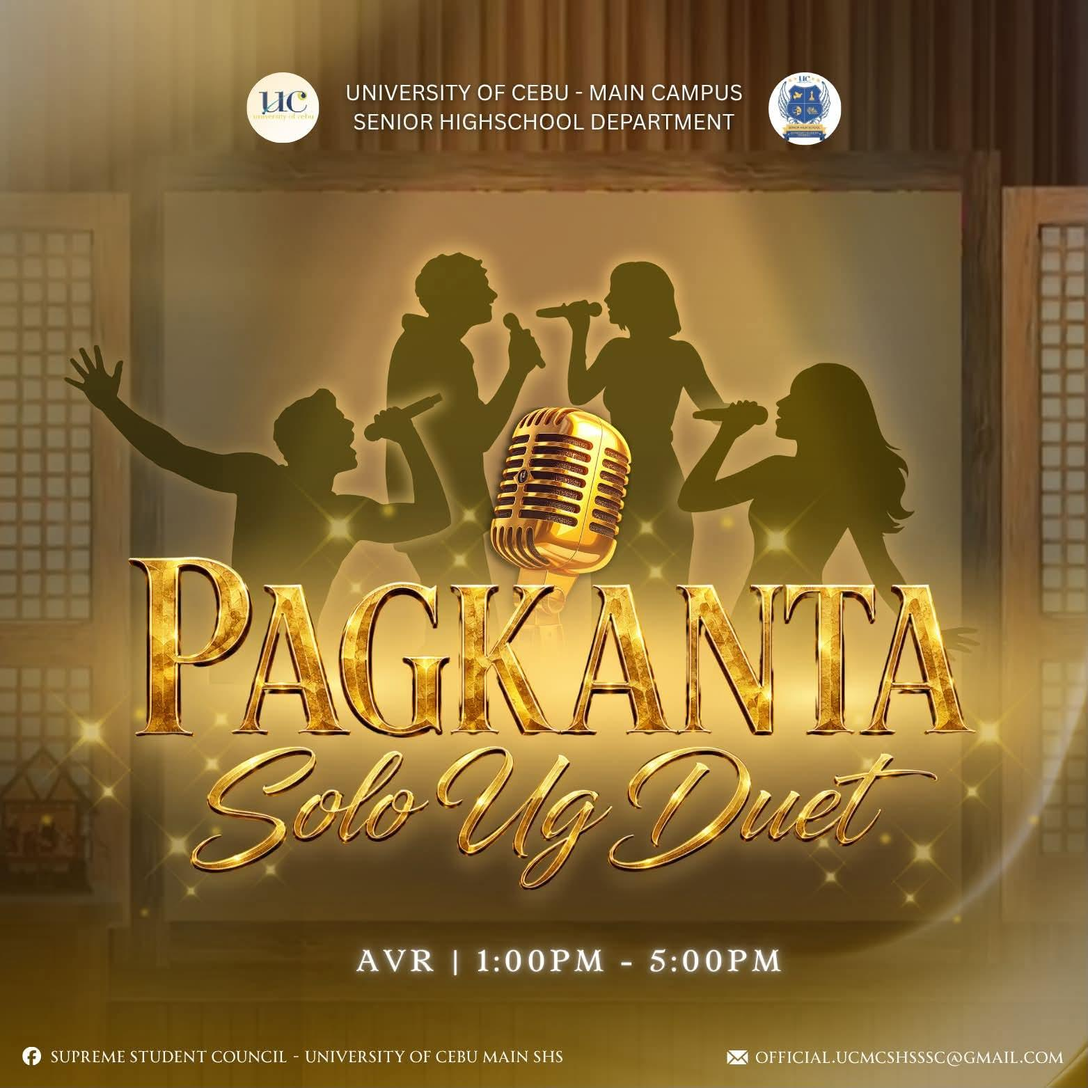embellishment: (489, 404, 633, 656), (16, 1042, 44, 1069), (722, 1046, 753, 1070)
logo: (763, 67, 848, 150), (242, 67, 324, 149)
text: (124, 548, 980, 741), (184, 740, 946, 892), (340, 74, 747, 140), (350, 939, 790, 979), (45, 1044, 570, 1066), (753, 1047, 1068, 1070)
